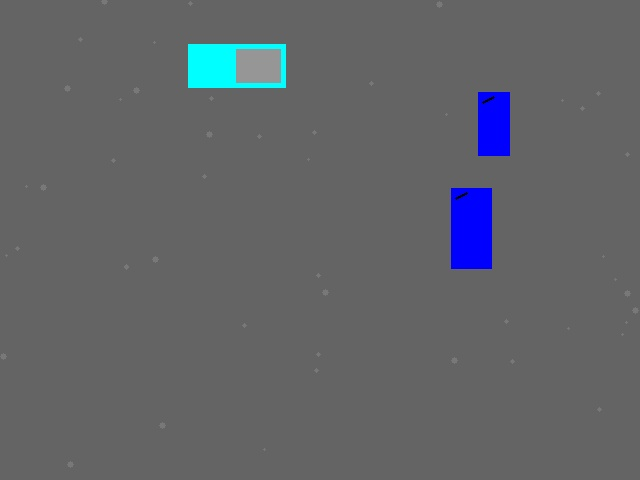motorcycle: (451, 188, 491, 268), (478, 92, 509, 155)
truck: (188, 44, 285, 87)
